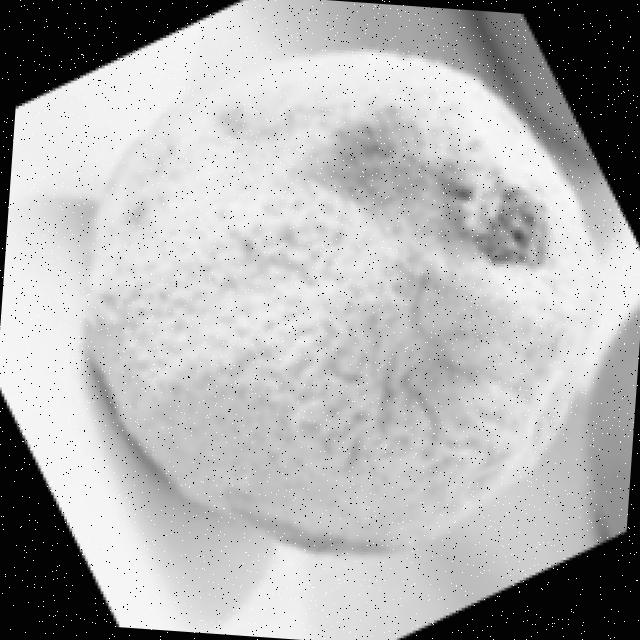Rotten: (66, 30, 624, 575)
